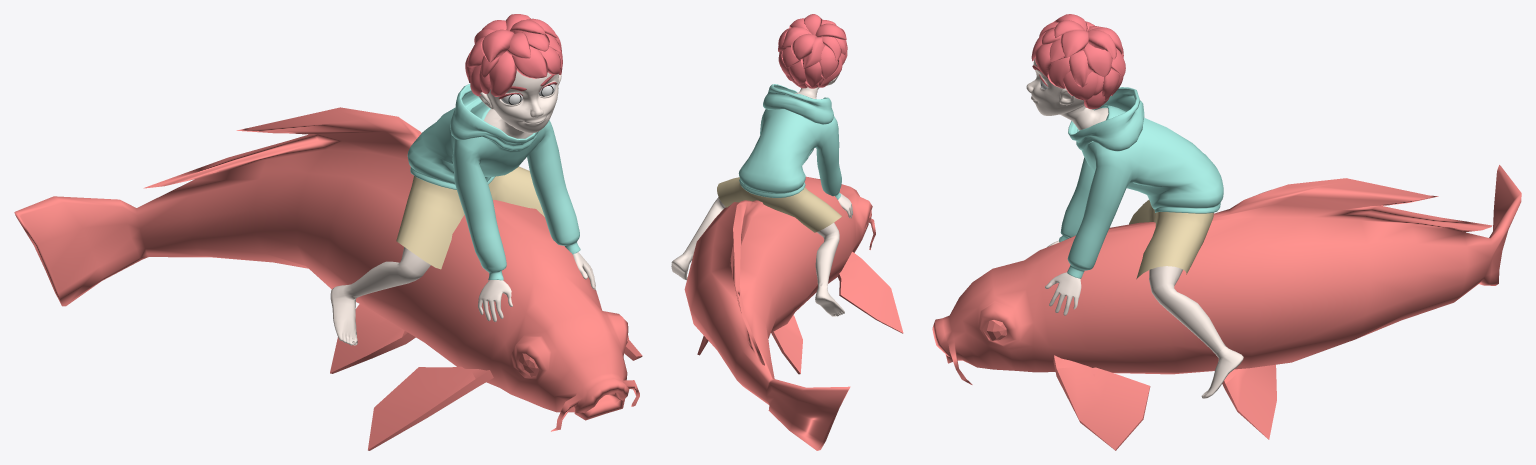
File: koi_and_boi.fbx
The picture shows the model from 3 angles, left to right: view 1: azimuth 30°, elevation 25°; view 2: azimuth 150°, elevation 25°; view 3: azimuth 270°, elevation 25°; orthographic projection. The views are drawn at different scales.
Visible parts, largest first — view 1: koi_and_boy_190715:fish2_connected, koi_and_boy_190715:character_boy_190715_skinned2:shirt, body, koi_and_boy_190715:character_boy_190715_skinned2:polySurface, nurbsToPoly16, nurbsToPoly18, nurbsToPoly2; view 2: koi_and_boy_190715:fish2_connected, koi_and_boy_190715:character_boy_190715_skinned2:shirt, body, koi_and_boy_190715:character_boy_190715_skinned2:polySurface, nurbsToPoly25, nurbsToPoly14, nurbsToPoly5, nurbsToPoly2, nurbsToPoly9, nurbsToPoly1, nurbsToPoly12, nurbsToPoly3 (+2 smaller); view 3: koi_and_boy_190715:fish2_connected, koi_and_boy_190715:character_boy_190715_skinned2:shirt, body, koi_and_boy_190715:character_boy_190715_skinned2:polySurface, nurbsToPoly22, nurbsToPoly20, nurbsToPoly8.
Part boxes in pixels (x1,y1,x2,y2): koi_and_boy_190715:fish2_connected: (14,107,642,450); koi_and_boy_190715:character_boy_190715_skinned2:shirt: (407,84,580,280); body: (330,70,595,345); koi_and_boy_190715:character_boy_190715_skinned2:polySurface: (396,166,544,269); nurbsToPoly16: (489,51,516,96); nurbsToPoly18: (512,46,547,78); nurbsToPoly2: (481,29,514,62); koi_and_boy_190715:fish2_connected: (684,176,903,450); koi_and_boy_190715:character_boy_190715_skinned2:shirt: (738,84,841,199); body: (671,73,852,316); koi_and_boy_190715:character_boy_190715_skinned2:polySurface: (717,177,841,232); nurbsToPoly25: (791,33,816,59); nurbsToPoly14: (819,45,839,79); nurbsToPoly5: (801,37,825,68); nurbsToPoly2: (815,23,846,39); nurbsToPoly9: (804,62,822,87); nurbsToPoly1: (782,27,812,47); nurbsToPoly12: (789,61,805,84); nurbsToPoly3: (820,36,841,61); koi_and_boy_190715:fish2_connected: (932,165,1521,450); koi_and_boy_190715:character_boy_190715_skinned2:shirt: (1059,87,1223,278); body: (1026,58,1243,398); koi_and_boy_190715:character_boy_190715_skinned2:polySurface: (1129,200,1213,279); nurbsToPoly22: (1083,43,1112,76); nurbsToPoly20: (1063,71,1097,100); nurbsToPoly8: (1060,30,1088,57).
Size of the model in its own units: 13.21 by 12.45 by 16.93.
